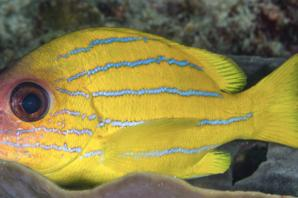Lutjanidae -Snappers-: (0, 20, 298, 187)
